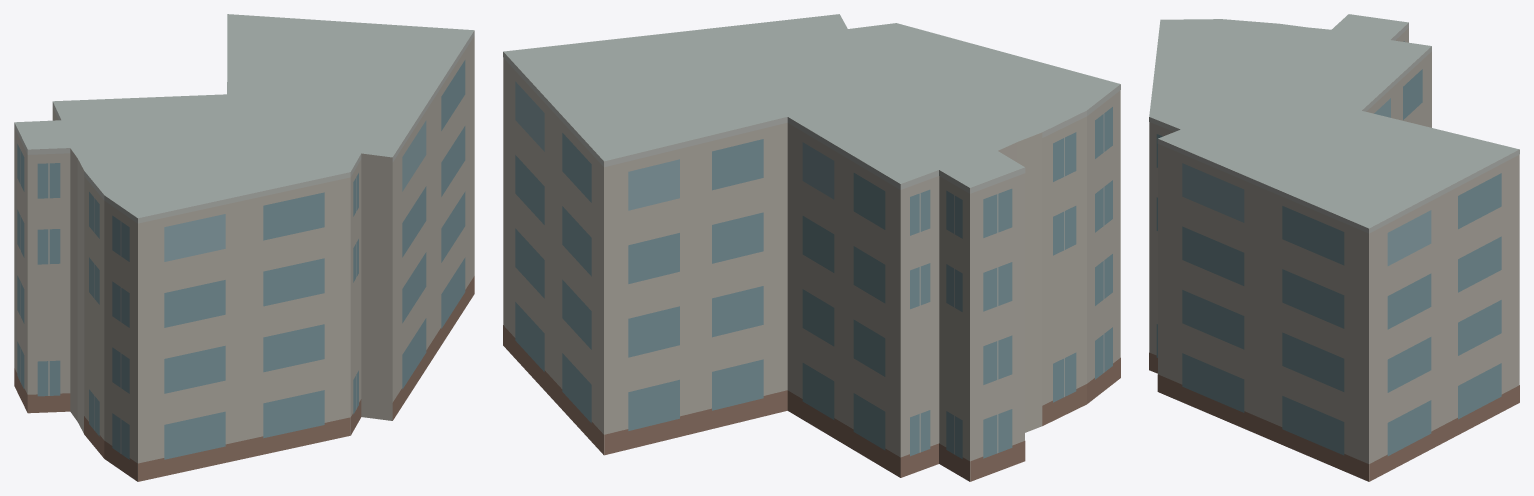
File: survey-upis-32824550.glb
3 renders of one model, left to right at view 1: azimuth 30°, elevation 25°; view 2: azimuth 150°, elevation 25°; view 3: azimuth 270°, elevation 25°, orthographic. The views are drawn at different scales.
Parts seen in each view (by area): view 1: survey-upis-32824550.tmp; view 2: survey-upis-32824550.tmp; view 3: survey-upis-32824550.tmp.
Part boxes in pixels (box(x1,y1,x2,y2)): survey-upis-32824550.tmp: box(14, 14, 474, 481); survey-upis-32824550.tmp: box(503, 14, 1120, 481); survey-upis-32824550.tmp: box(1149, 14, 1519, 481).
Bounding box in the file's own units: 22.17 × 12.2 × 16.19.
